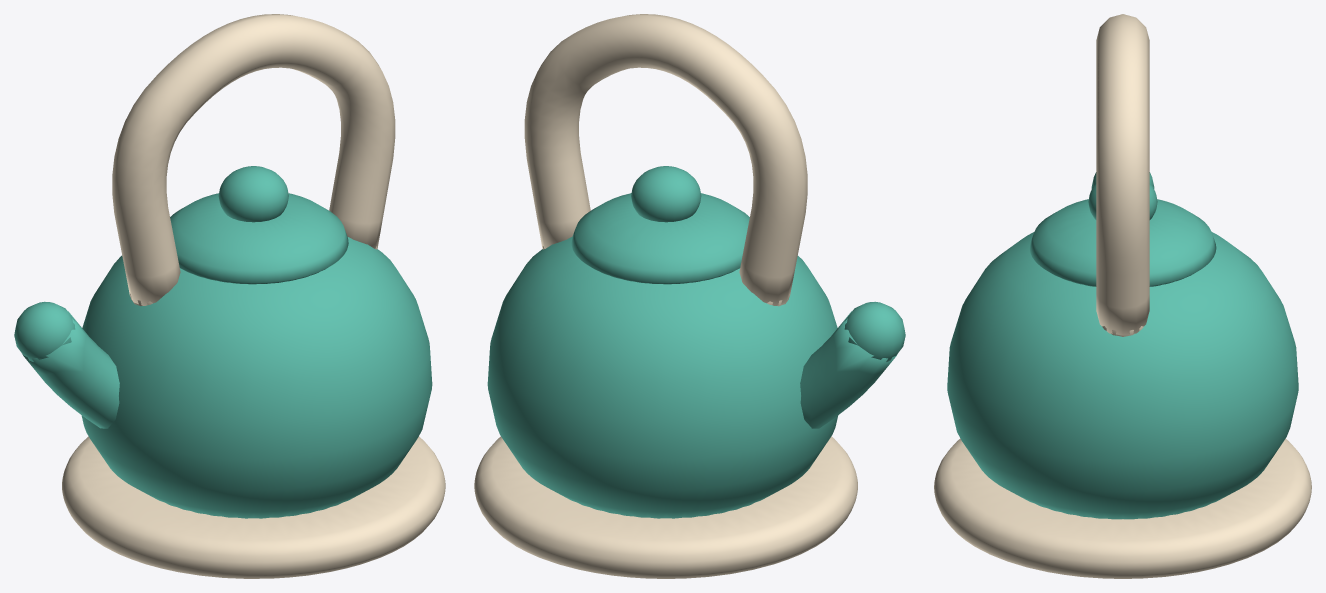
The model's file is kettle_a.glb.
3 views of the same model, side by side, from view 1: azimuth 30°, elevation 25°; view 2: azimuth 150°, elevation 25°; view 3: azimuth 270°, elevation 25° (orthographic).
Parts seen in each view (by area): view 1: body; view 2: body; view 3: body.
Part boxes in pixels (x1=…): body: x1=14, y1=14, x2=445, y2=578; body: x1=474, y1=14, x2=905, y2=578; body: x1=934, y1=14, x2=1311, y2=578.
Bounding box in the file's own units: 0.29 × 0.337 × 0.24.
